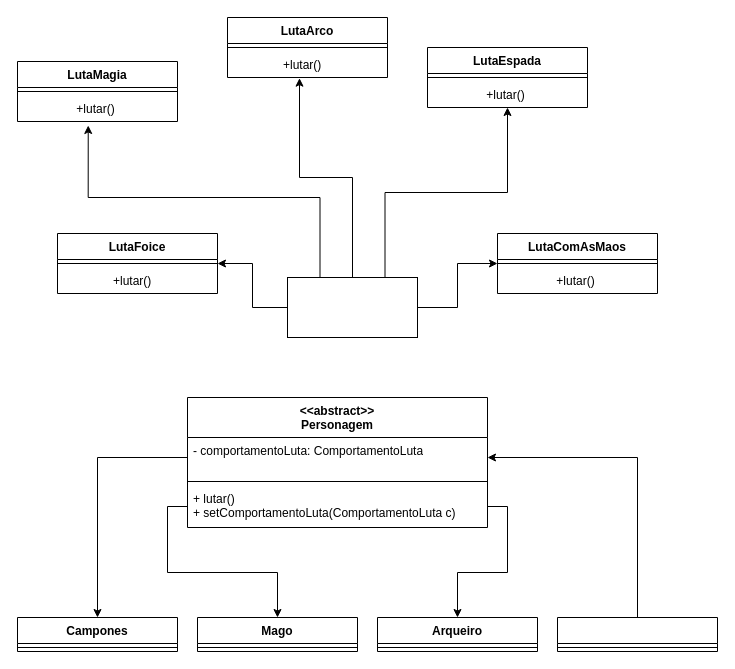
Some shapes in this 735 by 669 pixel diagram are drawn without their labels. The centre of each missing label's shape, as x and y in pixels:
Guerreiro: point 637,634
«interface» ComportamentoLuta -------------------------------- +lutar(): point 352,307
